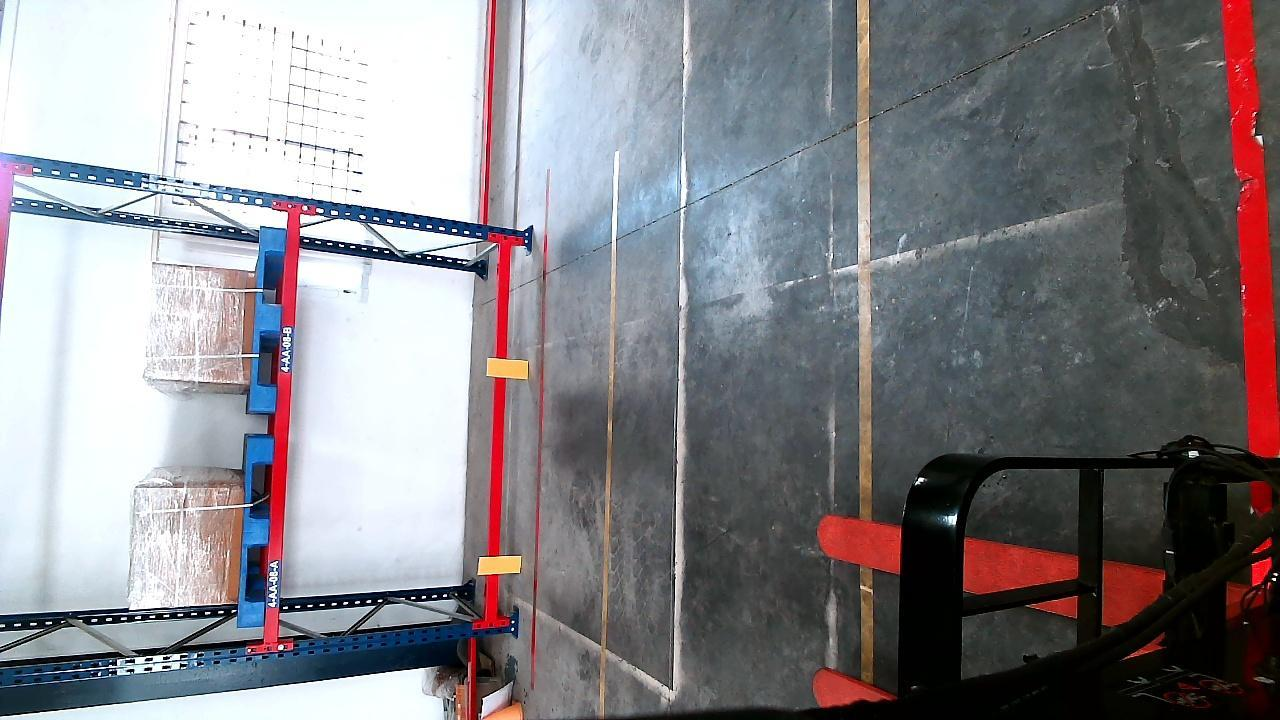red_line: (1213, 0, 1280, 454)
yellow_line: (596, 147, 624, 720), (854, 0, 877, 508)
